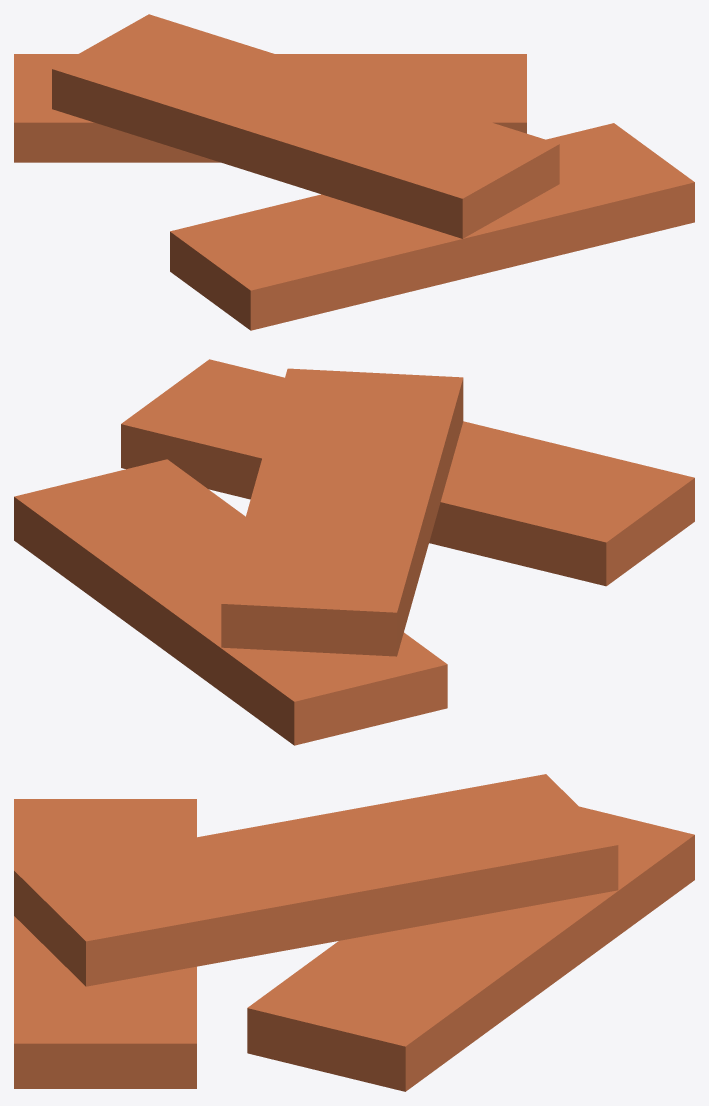
File: debrisWood.dae
3 renders of one model, top to bottom at view 1: azimuth 30°, elevation 25°; view 2: azimuth 150°, elevation 25°; view 3: azimuth 270°, elevation 25°, orthographic. The views are drawn at different scales.
Visible parts, largest first — view 1: debrisWood; view 2: debrisWood; view 3: debrisWood.
Boxes of the visible parts, bbox=[...] form: debrisWood: bbox=[14, 14, 694, 330]; debrisWood: bbox=[14, 359, 694, 745]; debrisWood: bbox=[14, 774, 694, 1091].
Size of the model in its own units: 0.4669 by 0.0787 by 0.5364.
